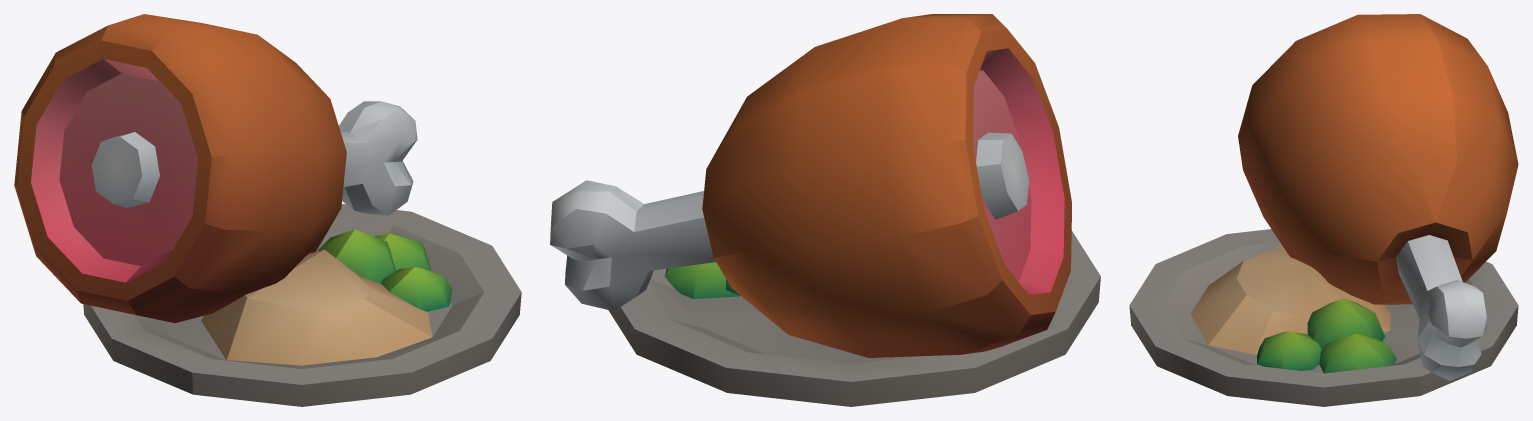
File: fw_plate_supper.glb
3 renders of one model, left to right at view 1: azimuth 30°, elevation 25°; view 2: azimuth 150°, elevation 25°; view 3: azimuth 270°, elevation 25°, orthographic. The views are drawn at different scales.
Parts seen in each view (by area): view 1: body; view 2: body; view 3: body.
Boxes of the visible parts, box(x1,y1,x2,y2) form: body: box(14, 14, 521, 406); body: box(550, 14, 1100, 406); body: box(1129, 14, 1518, 406).
Size of the model in its own units: 0.492 by 0.378 by 0.4659.
